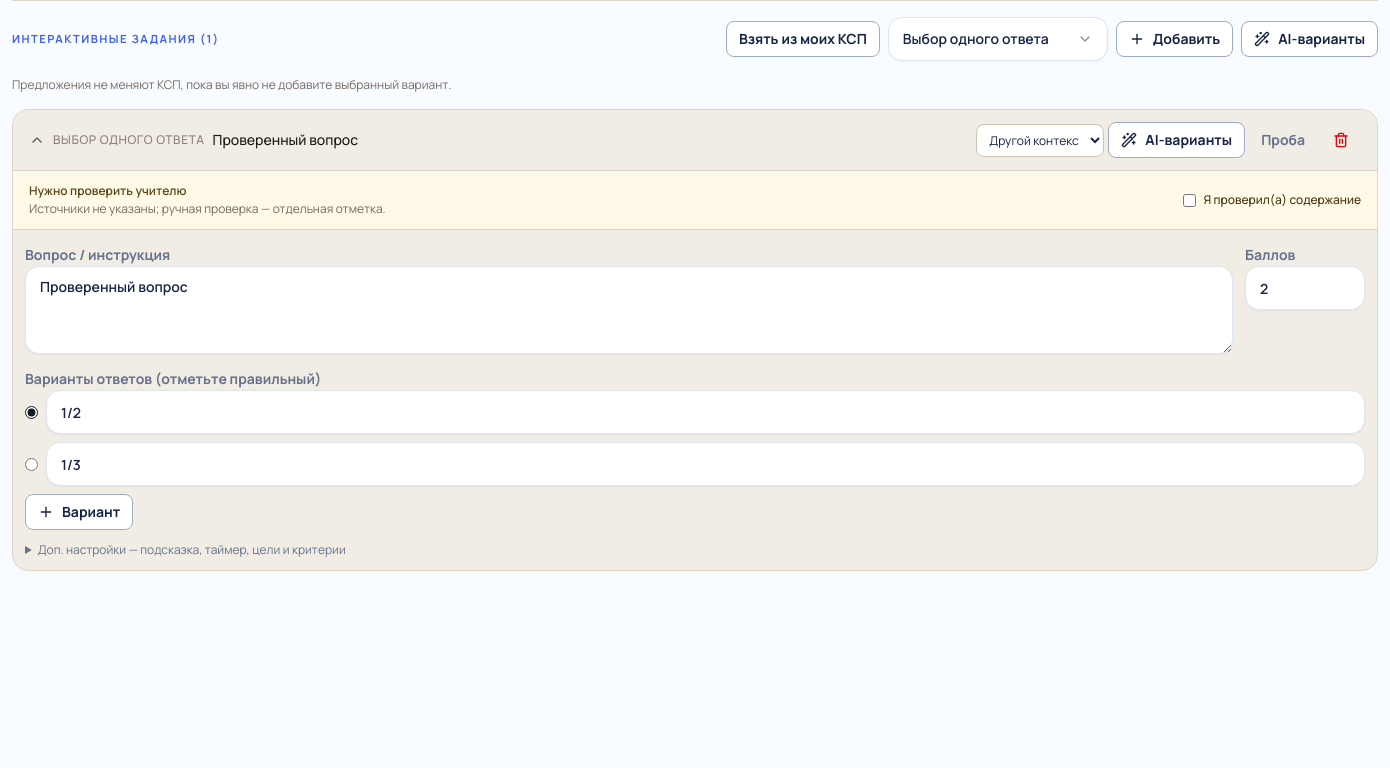
Scenario: TaskBuilder AI variants › shows source presence separately from review and resets the review after an edit
Expected: the text "Источники не указаны; ручная проверка — отдельная отметка." is shown, [29, 201, 386, 217]
Click the checkbox labelled "Я проверил(а) содержание" at [1189, 200], box [1182, 194, 1196, 206]
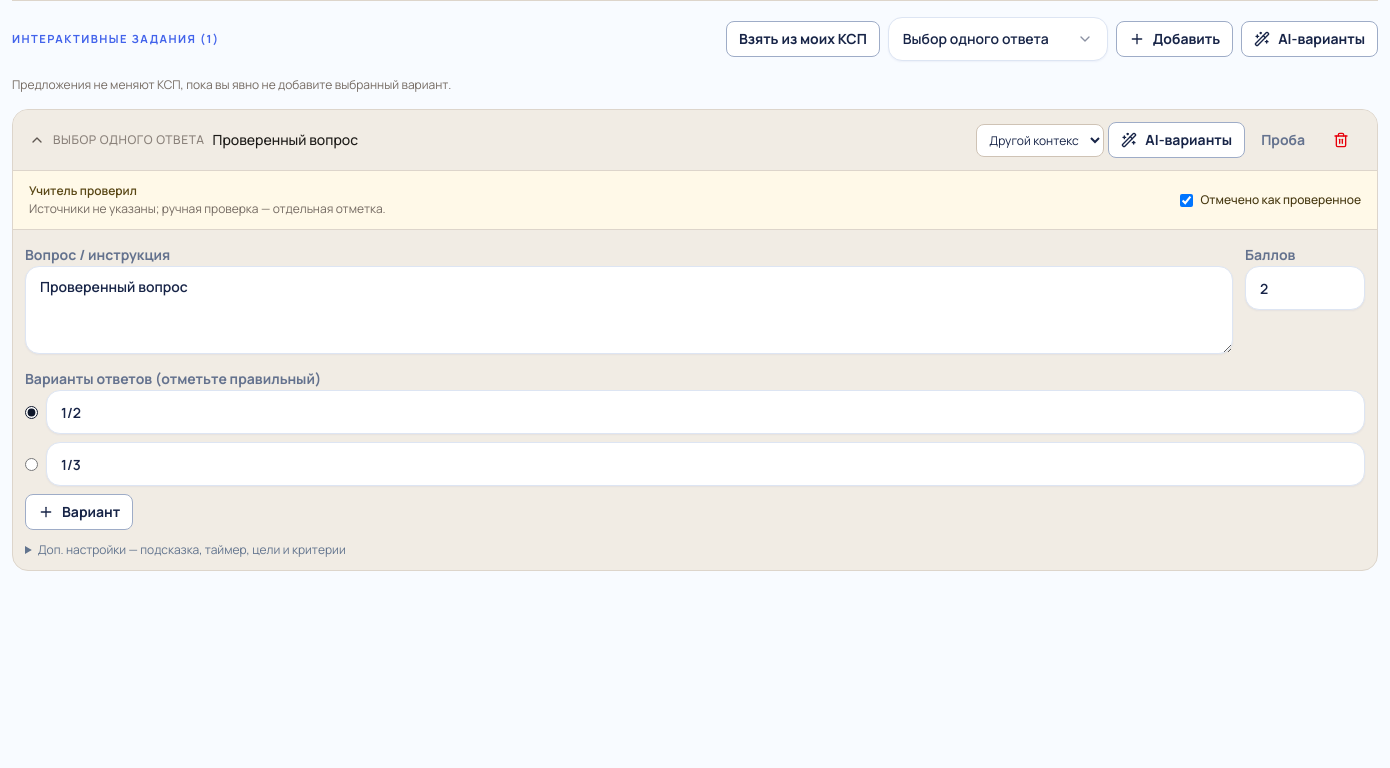
Result: the text "Отмечено как проверенное" is shown at [1180, 192, 1361, 208]
Replace the text in the text box labelled "Вопрос / инструкция" with "Изменённый вопрос" at [629, 310], box [25, 266, 1233, 354]
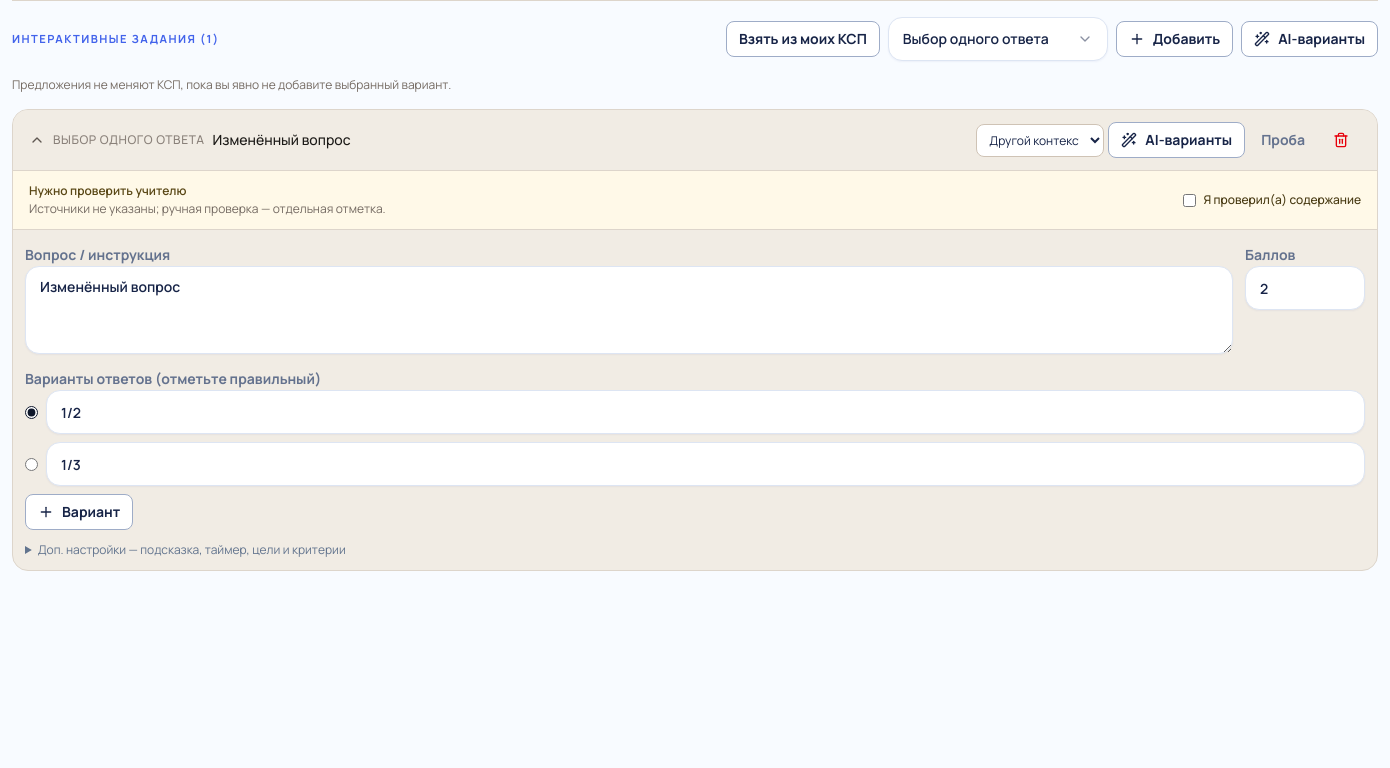
Result: the checkbox labelled "Я проверил(а) содержание" is not checked at [1182, 194, 1196, 206]
Result: the text "Нужно проверить учителю" is shown at [29, 182, 186, 199]
